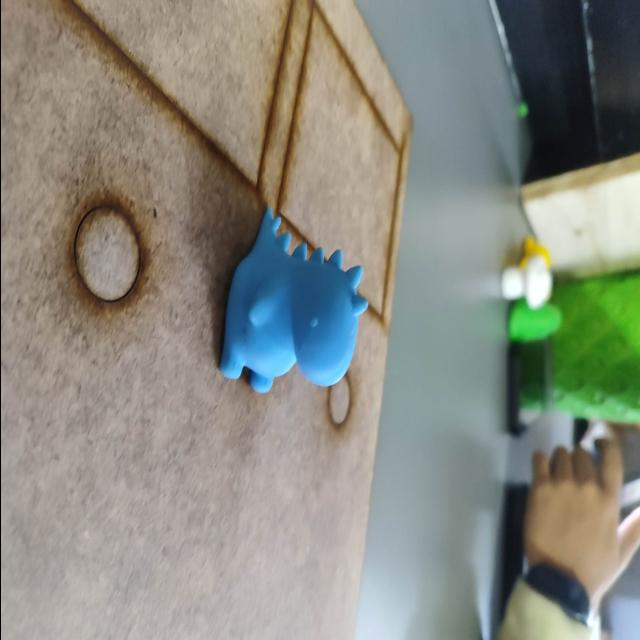DINO: (213, 185, 392, 409)
